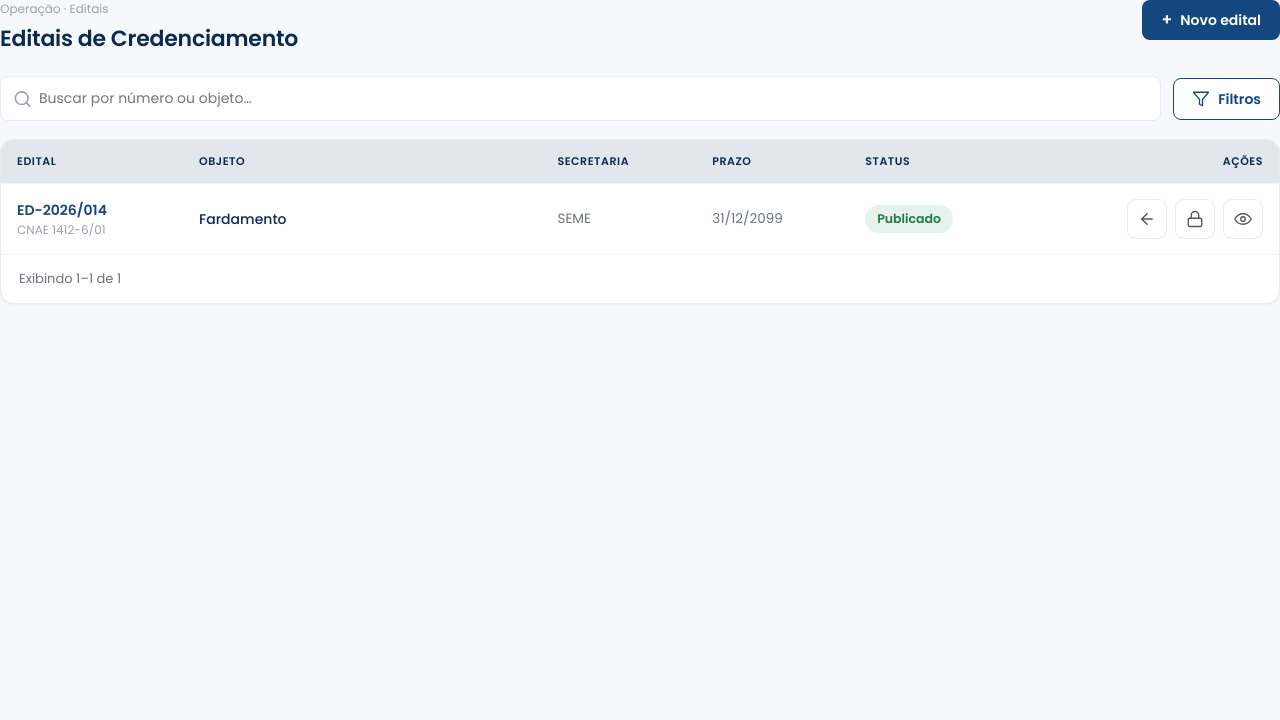
GerirEditais — Gestão de Editais (SGMA, /admin/editais) › o modal de detalhes lista os materiais do edital
This screenshot has width=1280, height=720.
Step 1. Click the button with test id "ver-detalhes" → coordinates (1243, 219), box [1223,199,1263,239]
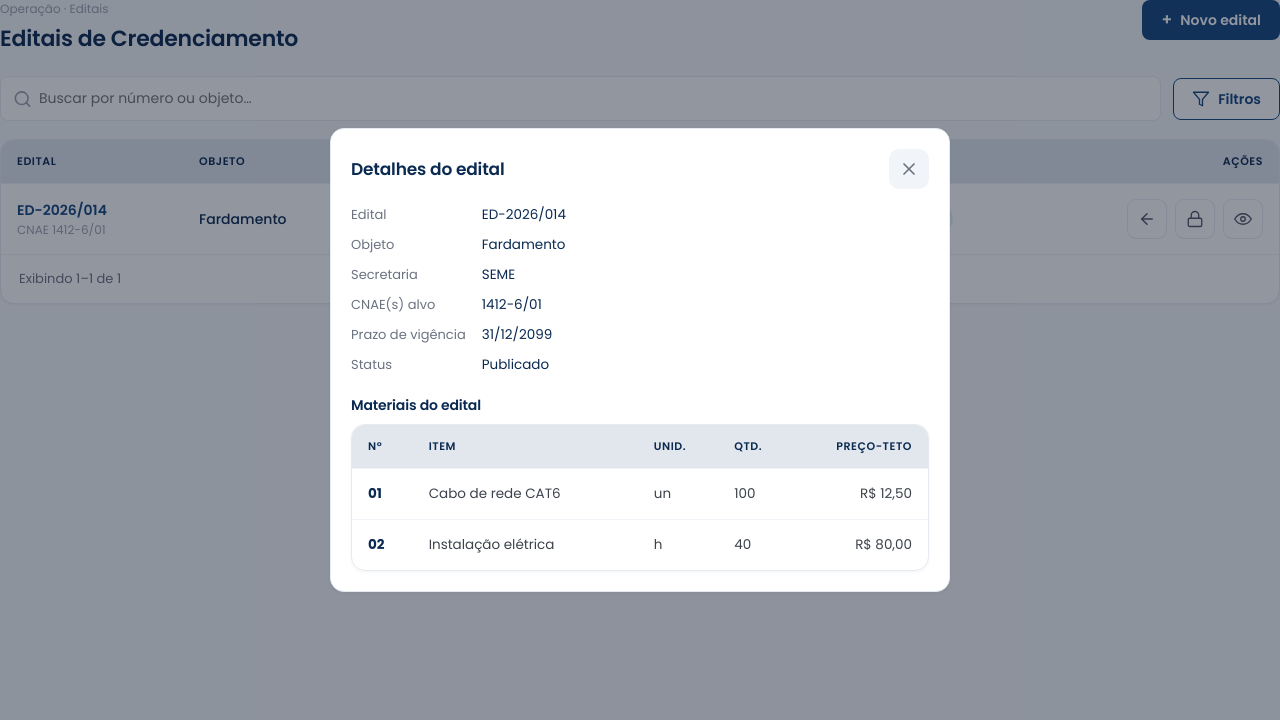
Result: the table with test id "detalhe-tabela-itens" is shown at [352,425,928,570]
Result: the number of rows with test id "detalhe-item-edital" is 2 at [352,468,928,520]; [352,520,928,570]
Result: the text "Cabo de rede CAT6" is shown at [413,468,638,520]
